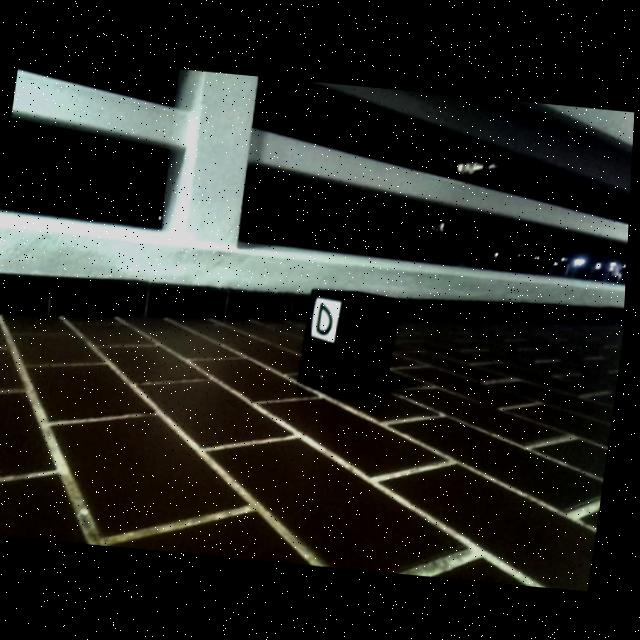D: (319, 301, 337, 336)
